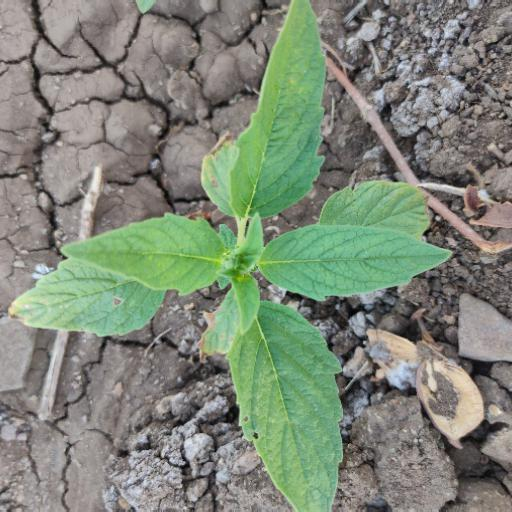crop: (15, 8, 458, 512)
